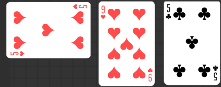5H: (72, 4, 88, 11), (10, 50, 26, 57)
9H: (147, 67, 154, 83)
